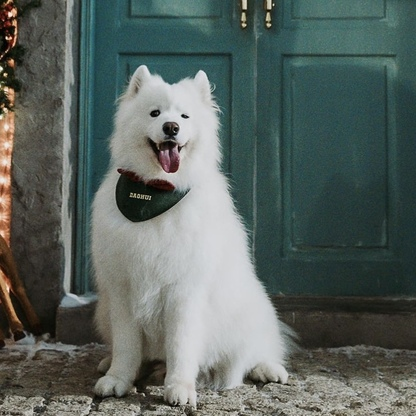samoyed: (78, 58, 306, 410)
